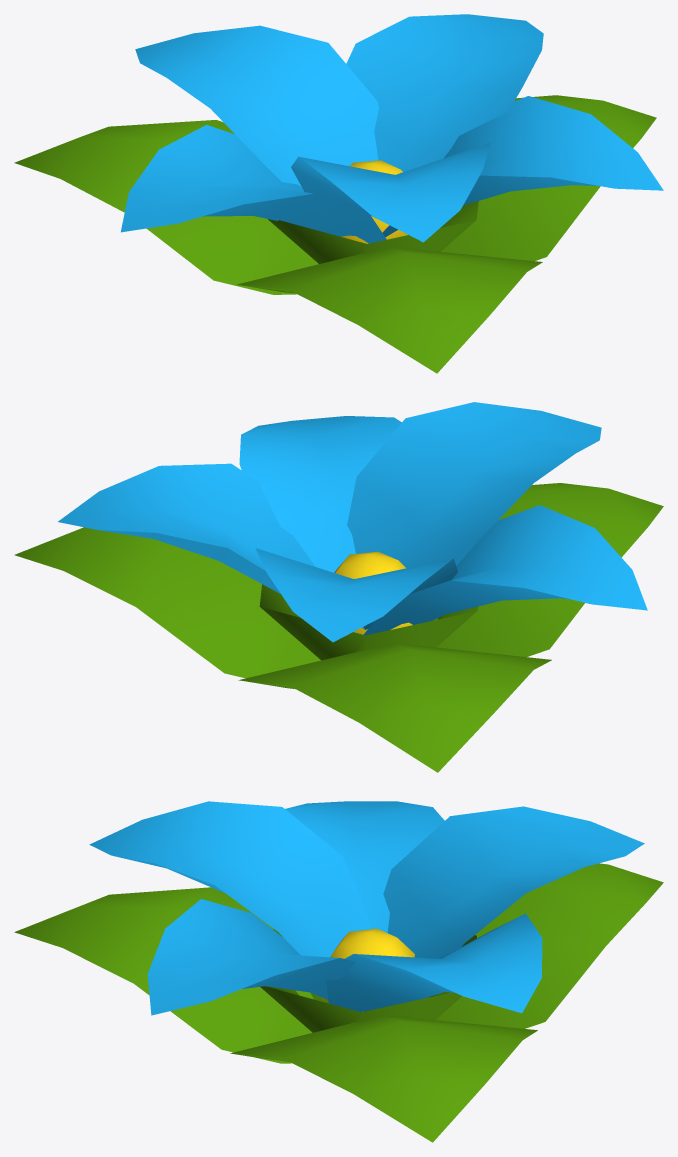
File: Flower_Blue.fbx
The picture shows the model from 3 angles, top to bottom: view 1: azimuth 30°, elevation 25°; view 2: azimuth 150°, elevation 25°; view 3: azimuth 270°, elevation 25°; orthographic projection. The views are drawn at different scales.
Visible parts, largest first — view 1: Flower_Blue; view 2: Flower_Blue; view 3: Flower_Blue.
Part boxes in pixels (x1,y1,x2,y2): Flower_Blue: (14, 14, 663, 373); Flower_Blue: (14, 402, 663, 772); Flower_Blue: (14, 801, 663, 1142).
Bounding box in the file's own units: 15.92 × 5.3 × 15.37.
